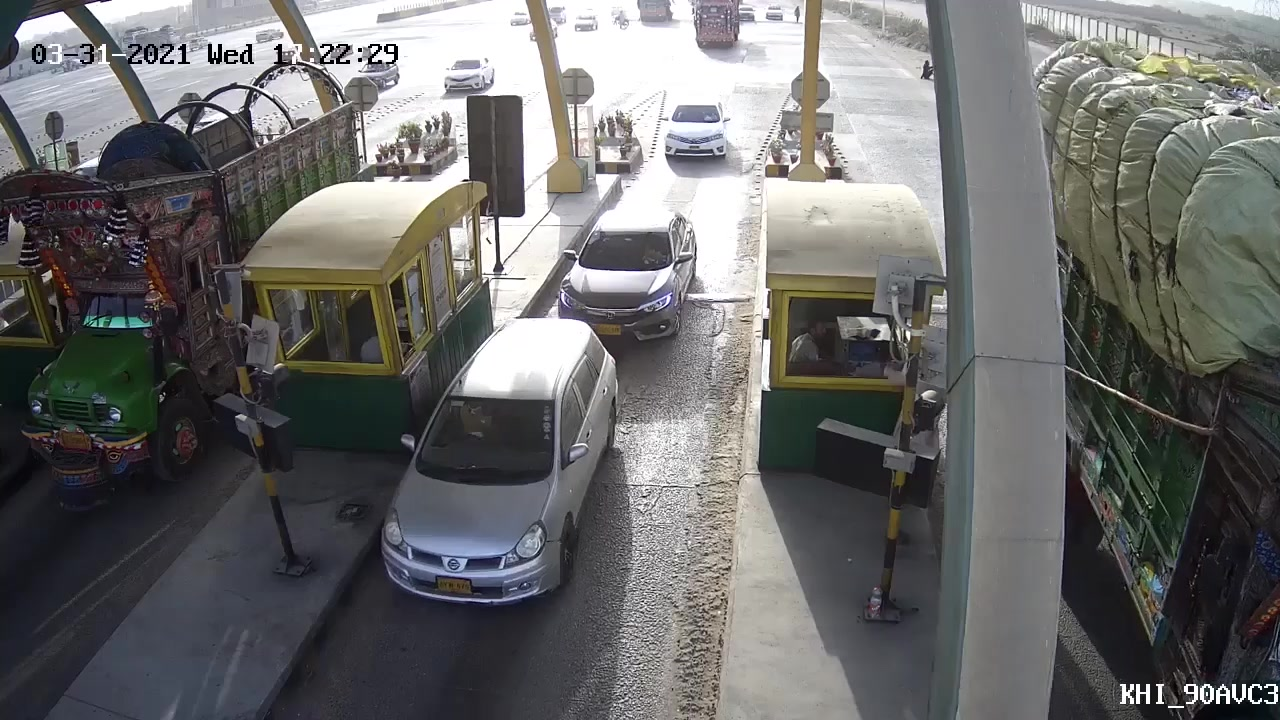F1: (348, 320, 622, 621), (546, 202, 700, 342)
